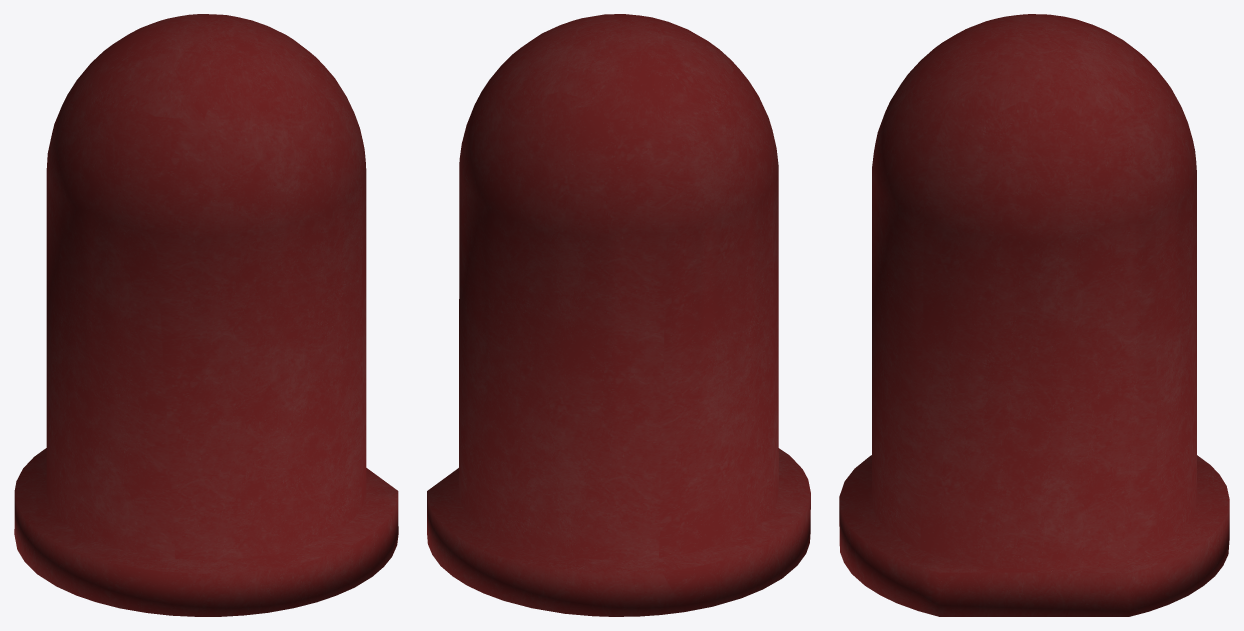
File: ledform.obj
The picture shows the model from 3 angles, left to right: view 1: azimuth 30°, elevation 25°; view 2: azimuth 150°, elevation 25°; view 3: azimuth 270°, elevation 25°; orthographic projection.
Visible parts, largest first — view 1: Object.000; view 2: Object.000; view 3: Object.000.
Boxes of the visible parts, bbox=[...] form: Object.000: bbox=[14, 14, 398, 616]; Object.000: bbox=[427, 14, 810, 616]; Object.000: bbox=[839, 14, 1229, 616].
Bounding box in the file's own units: 0.5628 × 0.8751 × 0.6005.
Materials: 1 (1 with a texture image).
